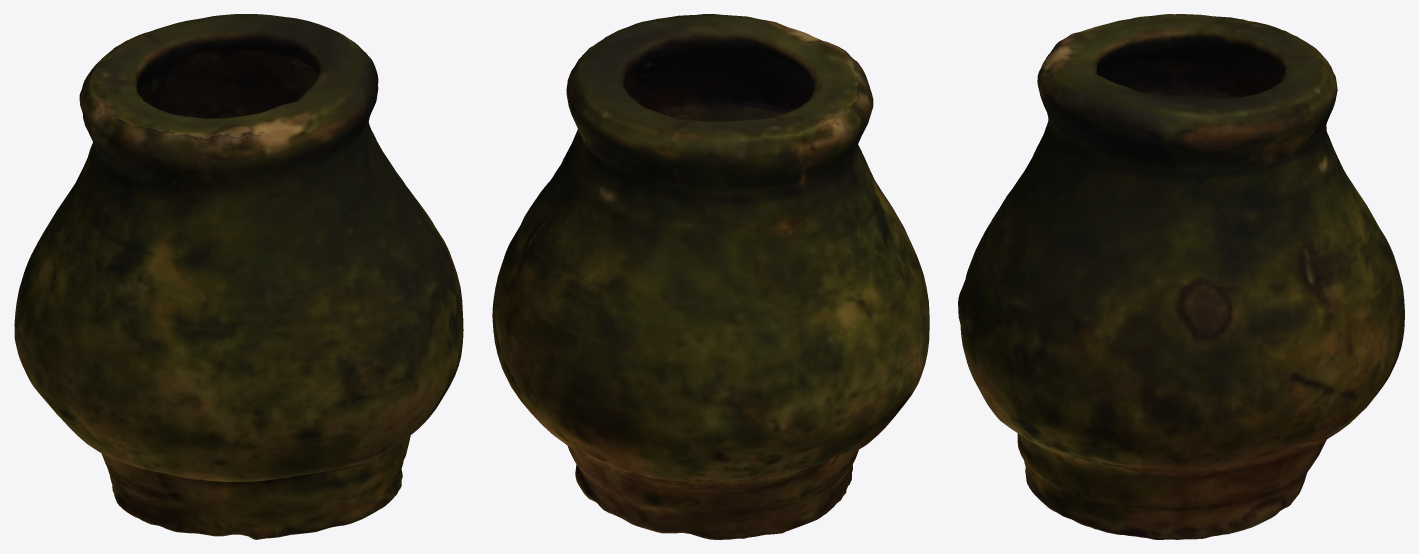
Rendered from hm-green-glazed-pot.glb.
The picture shows the model from 3 angles, left to right: view 1: azimuth 30°, elevation 25°; view 2: azimuth 150°, elevation 25°; view 3: azimuth 270°, elevation 25°; orthographic projection.
Parts seen in each view (by area): view 1: Object_2; view 2: Object_2; view 3: Object_2.
Boxes of the visible parts, box(x1,y1,x2,y2) form: Object_2: box(14, 14, 463, 539); Object_2: box(492, 14, 929, 539); Object_2: box(958, 14, 1404, 539).
Size of the model in its own units: 0.1208 by 0.13 by 0.1232.
1 material, 1 textured.
